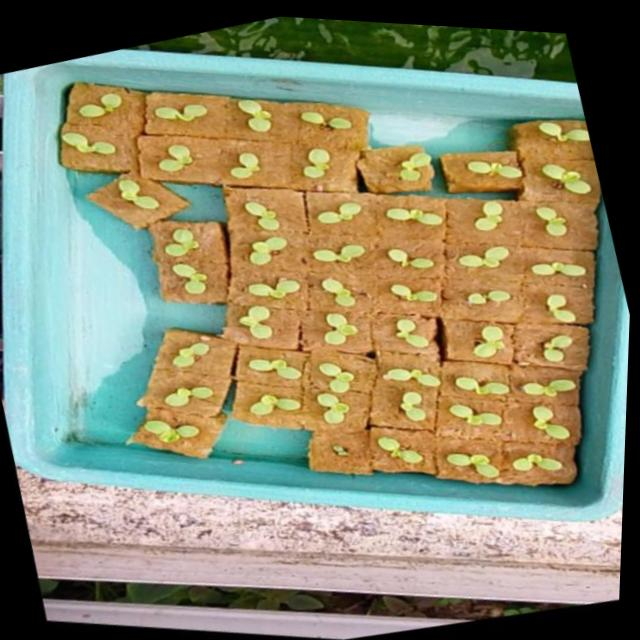Baby: (125, 175, 183, 218), (531, 198, 594, 234), (77, 86, 143, 119), (94, 120, 149, 152), (259, 270, 310, 301), (244, 235, 300, 263), (263, 355, 319, 382), (561, 334, 604, 369), (406, 317, 452, 349), (471, 290, 534, 312), (465, 455, 518, 480), (395, 437, 441, 465), (158, 418, 214, 441), (174, 220, 210, 255), (538, 379, 599, 399), (156, 102, 218, 121), (554, 407, 589, 440), (473, 244, 525, 266), (254, 304, 288, 337), (491, 325, 524, 359), (400, 246, 451, 268), (400, 368, 459, 387), (335, 361, 371, 392), (341, 311, 374, 344), (257, 198, 292, 229), (250, 98, 283, 130), (335, 276, 369, 306), (333, 391, 365, 422), (473, 377, 528, 395), (327, 242, 379, 261), (179, 384, 228, 404), (187, 340, 224, 366), (265, 397, 314, 416), (174, 143, 207, 170), (405, 282, 451, 301), (489, 200, 519, 229), (530, 455, 581, 472), (562, 294, 592, 322), (185, 270, 220, 293), (547, 260, 603, 274), (316, 146, 343, 175), (418, 392, 444, 422), (243, 150, 272, 176), (478, 410, 519, 426), (340, 201, 372, 221)
